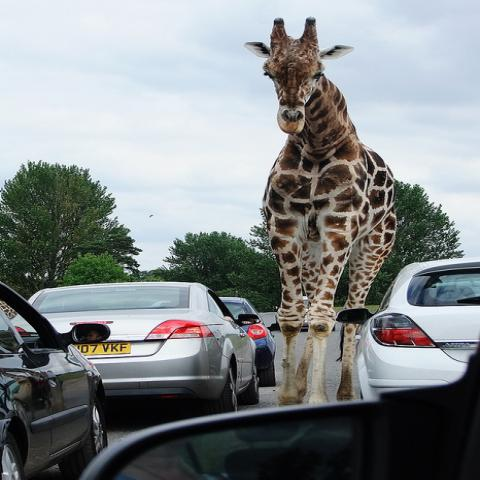car: (76, 355, 479, 476), (27, 279, 266, 408), (0, 280, 112, 473), (356, 255, 479, 400), (217, 296, 277, 388), (267, 296, 334, 333)
